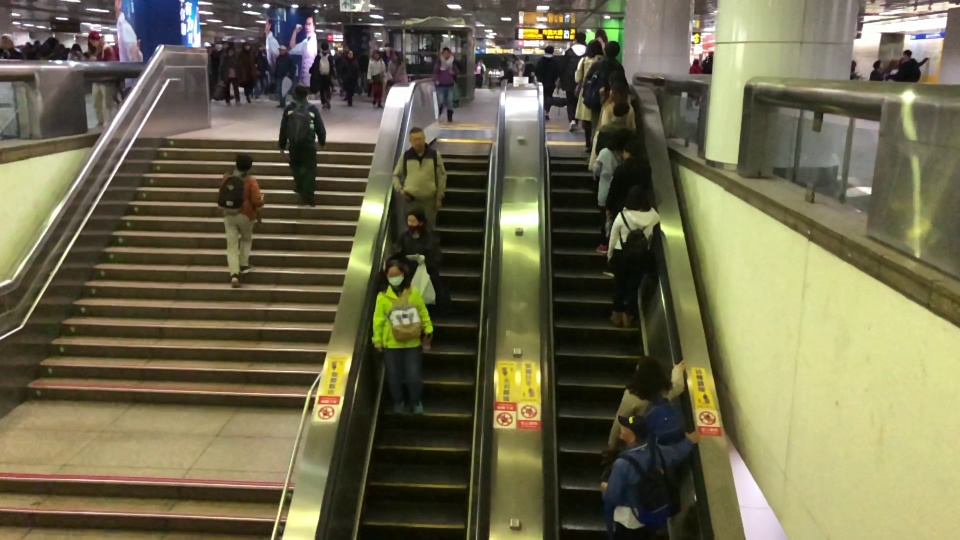person_head: (633, 354, 664, 398), (616, 412, 648, 446), (383, 258, 407, 288), (627, 184, 650, 211), (405, 207, 427, 234), (407, 126, 427, 151), (621, 138, 642, 161), (608, 80, 627, 103), (607, 127, 626, 150), (607, 69, 627, 89), (611, 101, 631, 121), (583, 39, 604, 58), (235, 153, 253, 173), (603, 39, 621, 57), (291, 84, 309, 101), (1, 34, 15, 49), (88, 30, 101, 46), (573, 31, 586, 45), (441, 46, 452, 61), (901, 48, 912, 61), (544, 44, 555, 55), (873, 59, 883, 71), (225, 45, 235, 56), (320, 41, 329, 53), (242, 42, 252, 52), (277, 44, 286, 55), (346, 48, 355, 59), (371, 49, 380, 60), (383, 43, 392, 53), (391, 49, 399, 60)
person_vbox: (598, 412, 701, 540), (370, 259, 434, 415), (605, 354, 687, 451), (605, 184, 660, 327), (601, 139, 652, 277), (390, 125, 447, 242), (216, 155, 264, 288), (276, 85, 327, 207), (582, 41, 630, 162), (588, 83, 636, 191), (395, 207, 441, 318), (592, 130, 627, 254), (1, 34, 42, 139), (573, 38, 606, 152), (85, 30, 119, 127), (594, 100, 637, 167), (558, 33, 587, 131), (431, 45, 459, 123), (534, 45, 559, 120), (309, 42, 336, 111), (598, 70, 636, 112), (217, 45, 243, 106), (273, 43, 297, 108), (884, 48, 929, 82), (339, 48, 362, 106), (366, 48, 387, 109), (238, 41, 257, 103), (386, 48, 408, 89), (379, 42, 392, 72), (869, 56, 884, 81)
